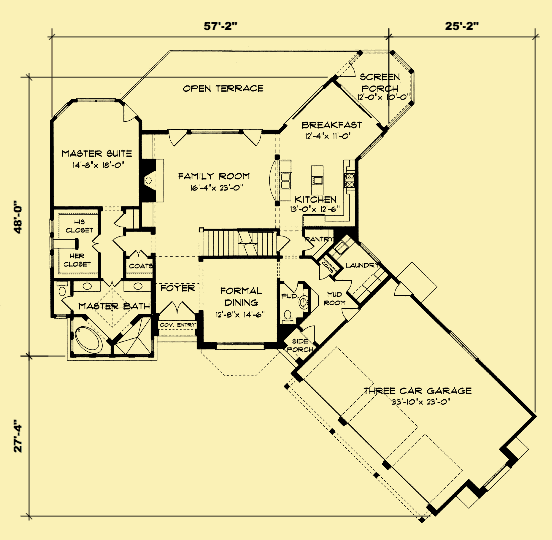kitchen is with twin sink, dining counter and cooking range: (267, 126, 364, 258)
master bathroom having closets, tub and shower space along with sinks: (45, 206, 158, 366)
these are stairs to the other floors: (193, 218, 286, 267)
this is a large garage with three car space: (302, 279, 543, 521)
